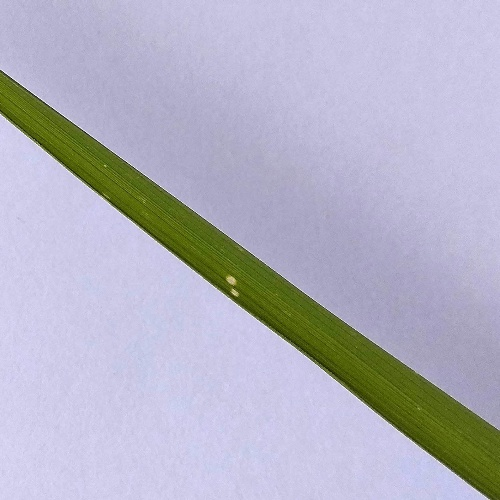Busuk Leher: (213, 272, 247, 305)
